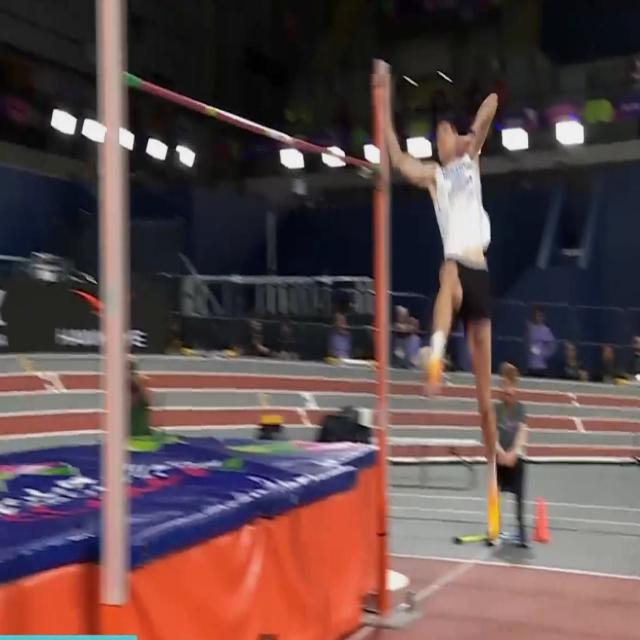jump: (371, 91, 503, 538)
